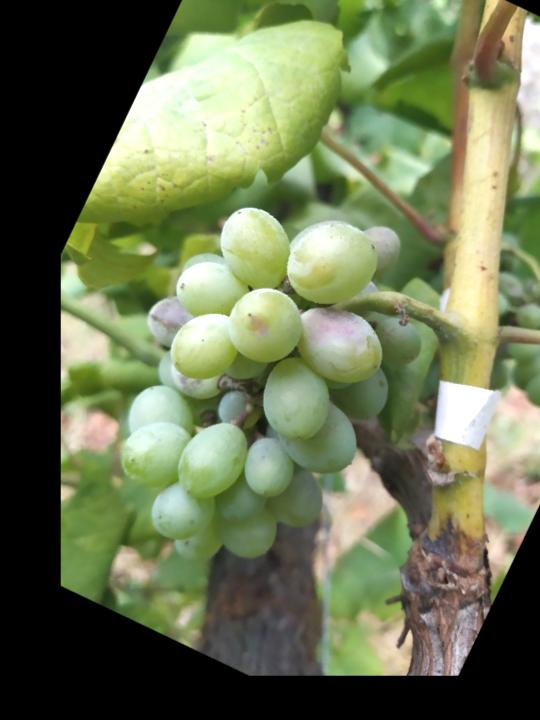grape: (52, 150, 469, 620)
